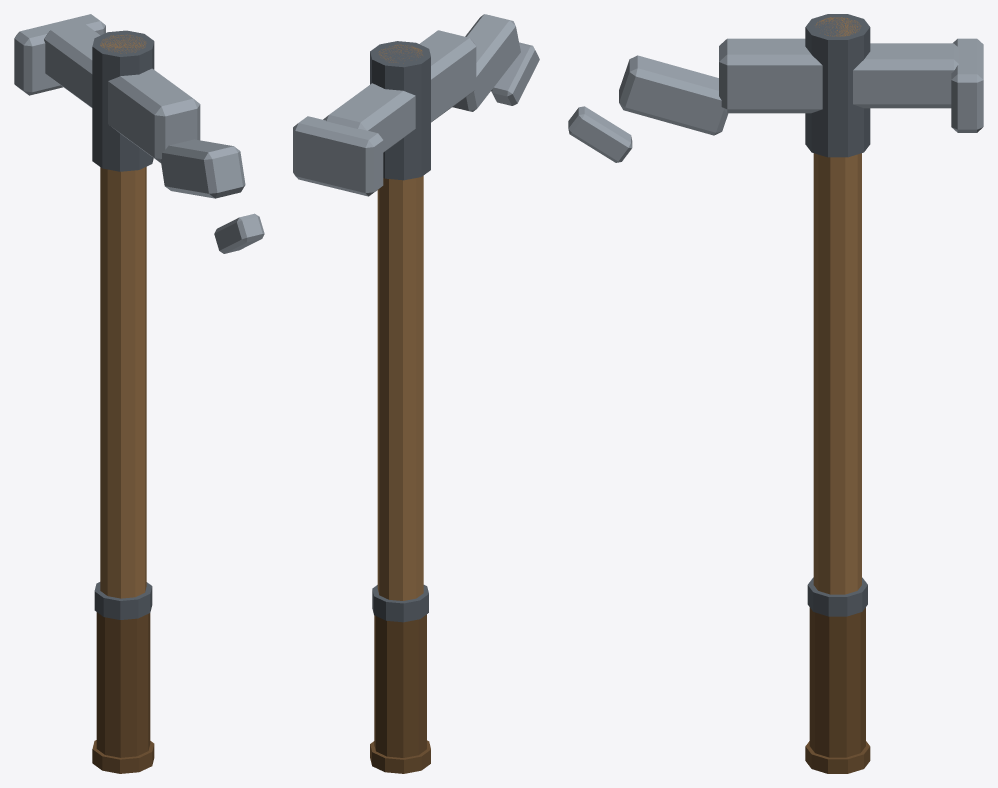
File: pioche_fer.glb
3 views of the same model, side by side, from view 1: azimuth 30°, elevation 25°; view 2: azimuth 150°, elevation 25°; view 3: azimuth 270°, elevation 25° (orthographic). The views are drawn at different scales.
Parts seen in each view (by area): view 1: pioche_manche.004, pioche_fer_outil.002, pioche_manche_sombre.004, pioche_fer_sombre.002; view 2: pioche_manche.004, pioche_fer_outil.002, pioche_manche_sombre.004, pioche_fer_sombre.002; view 3: pioche_fer_outil.002, pioche_manche.004, pioche_manche_sombre.004, pioche_fer_sombre.002.
Part boxes in pixels (x1,y1,x2,y2): pioche_manche.004: (100,34,146,598); pioche_fer_outil.002: (14,14,264,253); pioche_manche_sombre.004: (92,612,154,773); pioche_fer_sombre.002: (92,30,154,619); pioche_manche.004: (377,44,423,600); pioche_fer_outil.002: (293,14,539,196); pioche_manche_sombre.004: (370,614,430,773); pioche_fer_sombre.002: (370,41,430,622); pioche_fer_outil.002: (568,38,983,162); pioche_manche.004: (813,17,861,594); pioche_manche_sombre.004: (805,607,870,773); pioche_fer_sombre.002: (805,14,870,616).
Size of the model in its own units: 0.09 by 0.75 by 0.3846.
